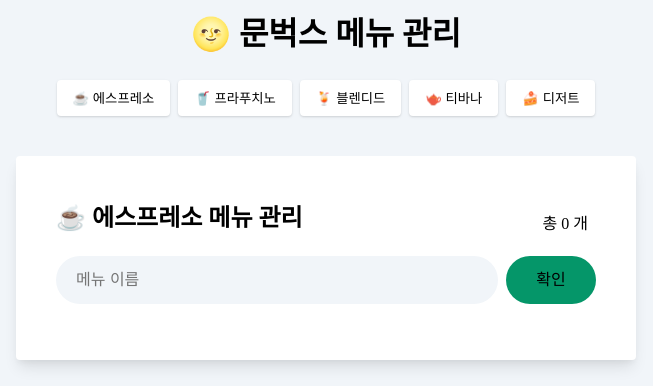
Scenario: 메인 페이지 테스팅 › 동작 관련 테스팅 › 각 카테고리를 클릭 후 디저트 카테고리까지 클릭 되어있는 상태에서 리로딩을 하게 되면 에스프레소 메뉴판이 보여져야 한다.
Click the button "🥤 프라푸치노" at (235, 98), box top-left (178, 80), bottom-right (292, 116)
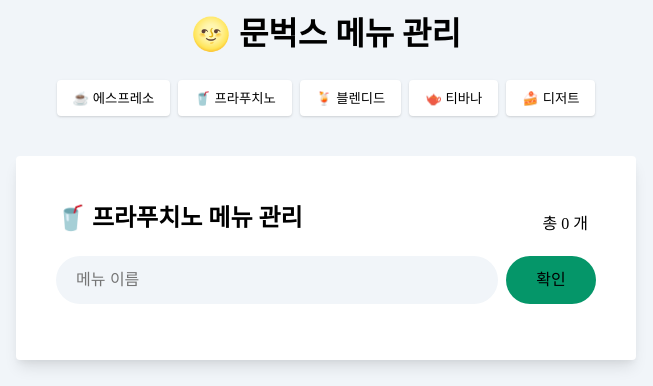
Click the button "🍹 블렌디드" at (351, 98), box top-left (300, 80), bottom-right (401, 116)
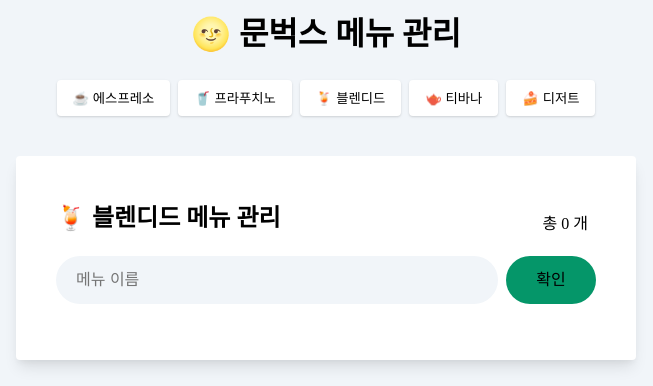
Click the button "🫖 티바나" at (454, 98), box top-left (409, 80), bottom-right (498, 116)
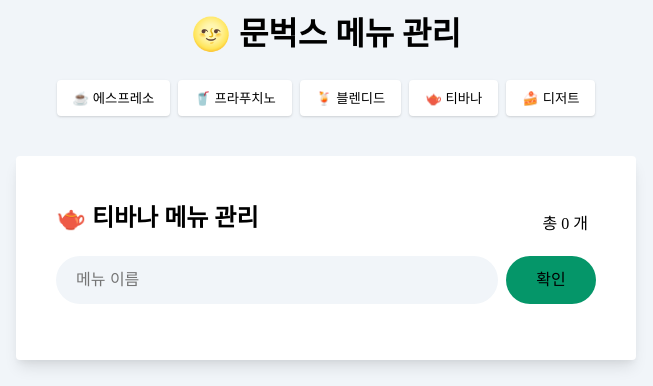
Click the button "🍰 디저트" at (551, 98), box top-left (506, 80), bottom-right (595, 116)
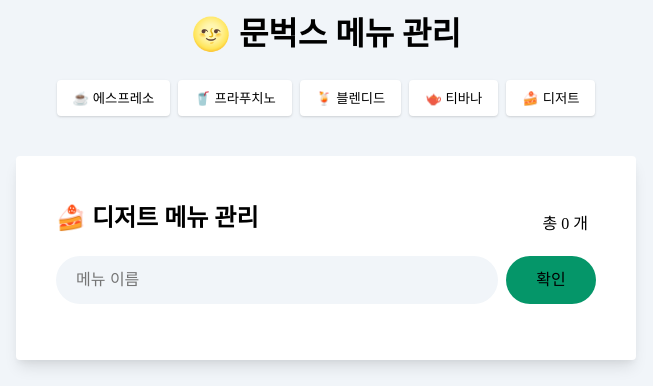
Reload the page
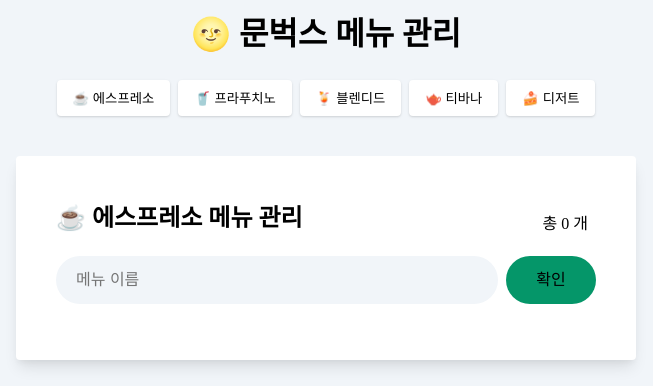
Result: the heading "☕ 에스프레소 메뉴 관리" is shown at top-left (56, 200), bottom-right (303, 236)
